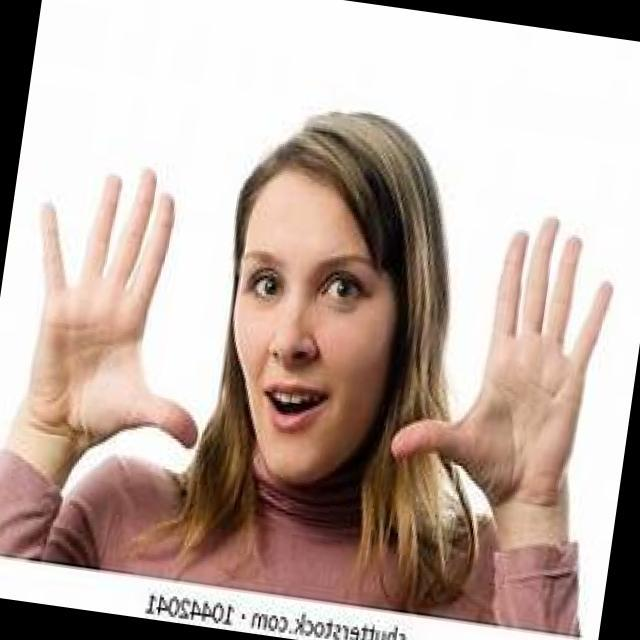not-gloved: (383, 187, 625, 526), (0, 140, 235, 482)
